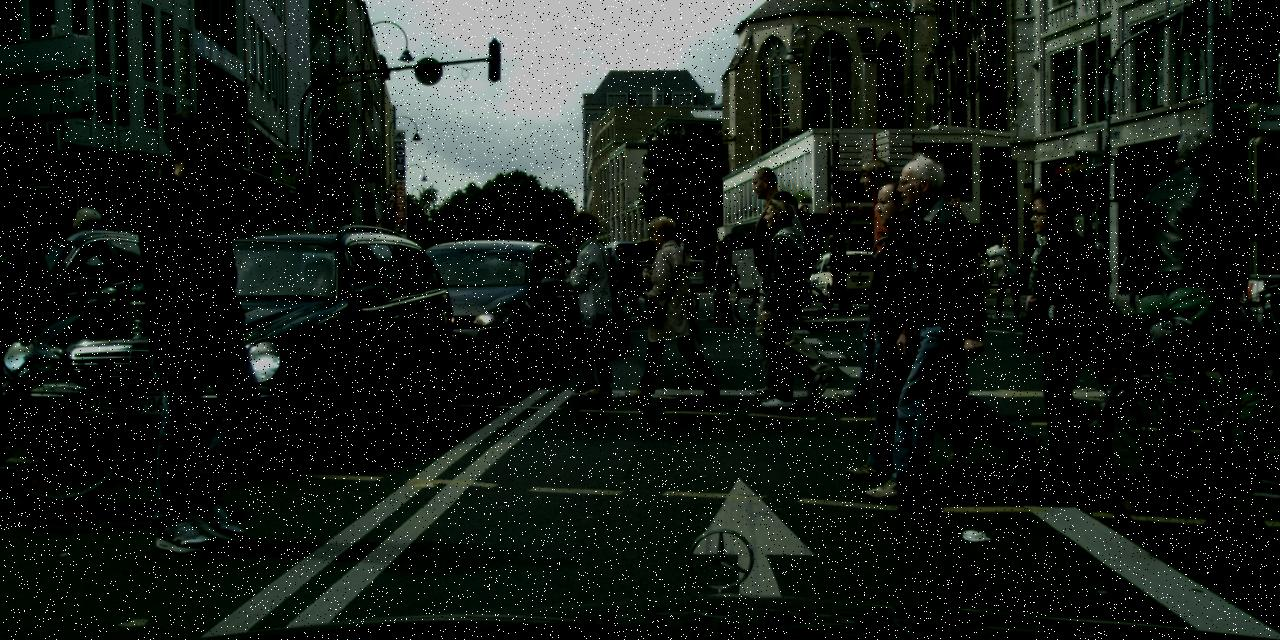ped: (104, 110, 280, 542), (1138, 128, 1278, 470), (876, 156, 1010, 482), (1007, 183, 1125, 472), (850, 179, 966, 463), (831, 159, 932, 405), (734, 166, 827, 392), (748, 199, 829, 399), (630, 214, 706, 398), (552, 210, 626, 392), (52, 207, 117, 365), (1015, 230, 1051, 319), (586, 240, 621, 324), (989, 234, 1023, 317), (818, 234, 850, 312), (609, 246, 640, 321), (1120, 244, 1146, 308), (960, 249, 982, 303)
